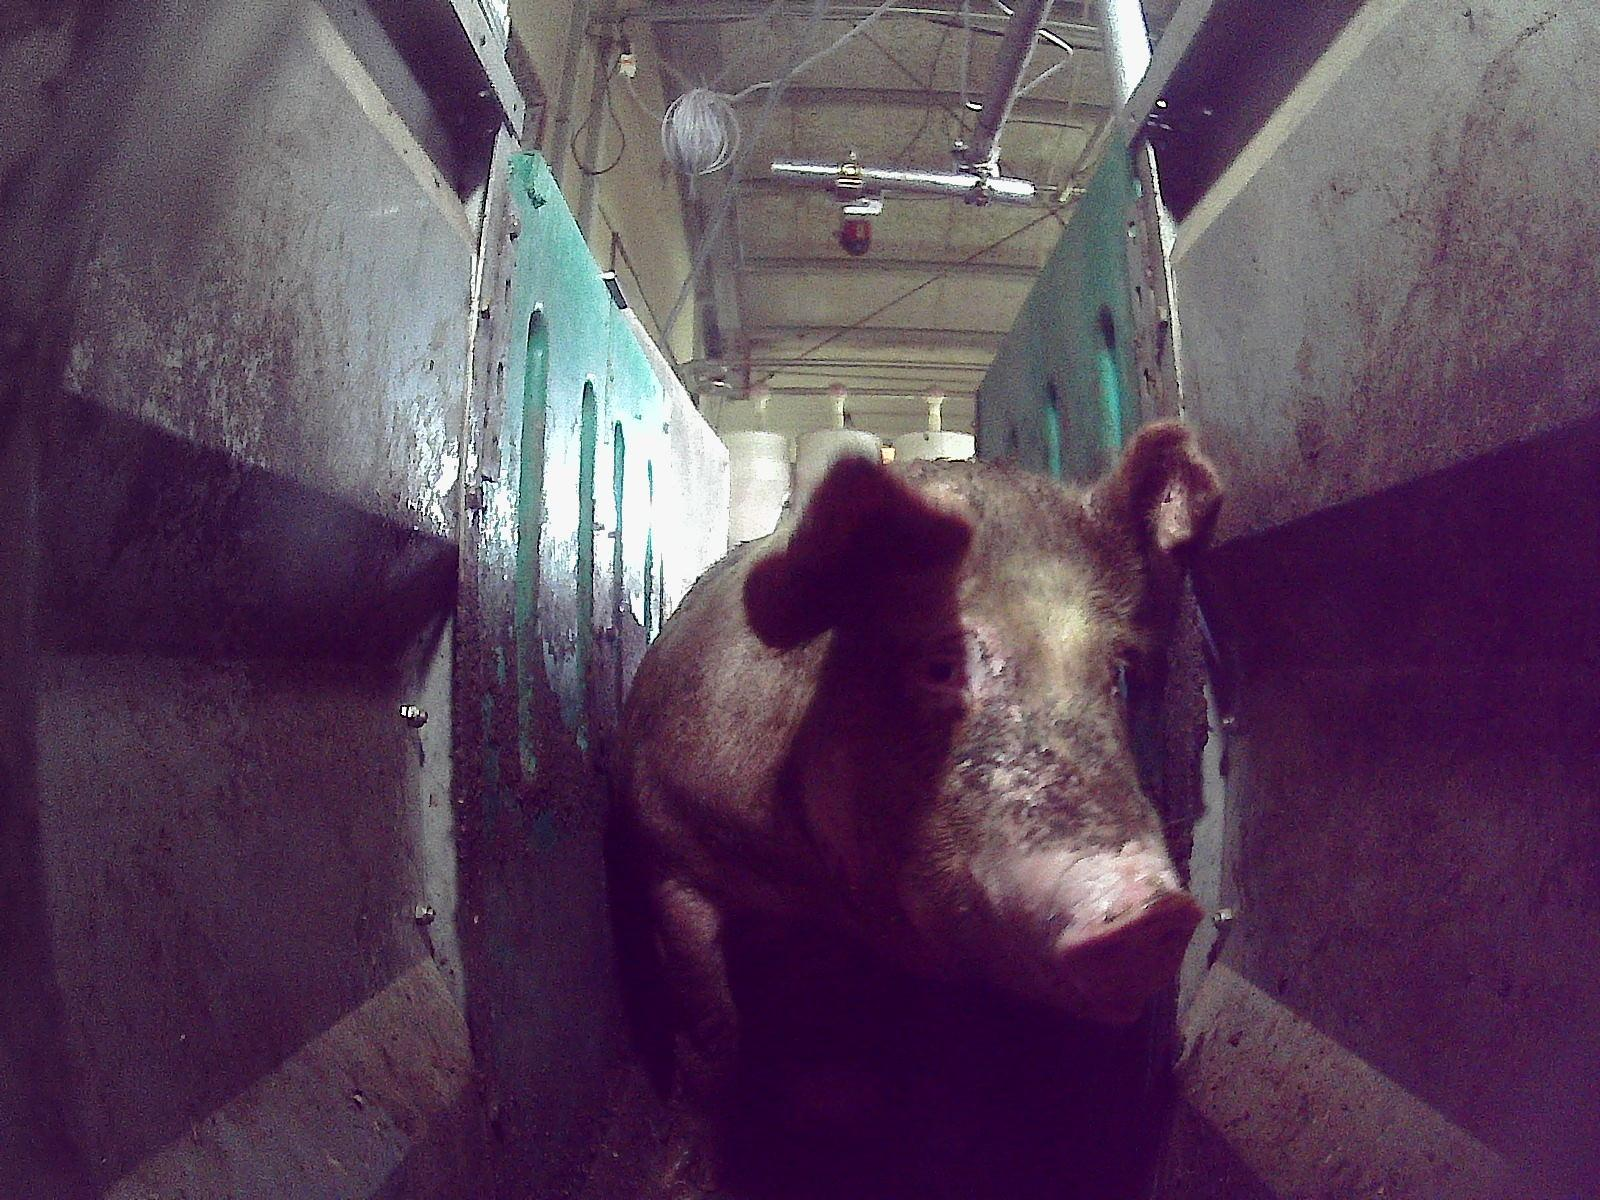Face: (807, 460, 1202, 1022)
